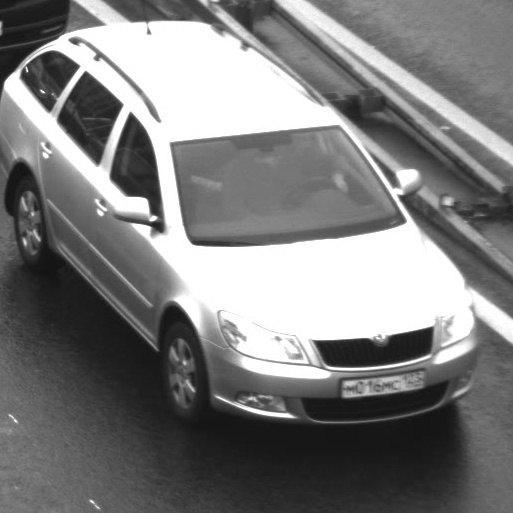plate: (331, 359, 431, 404)
